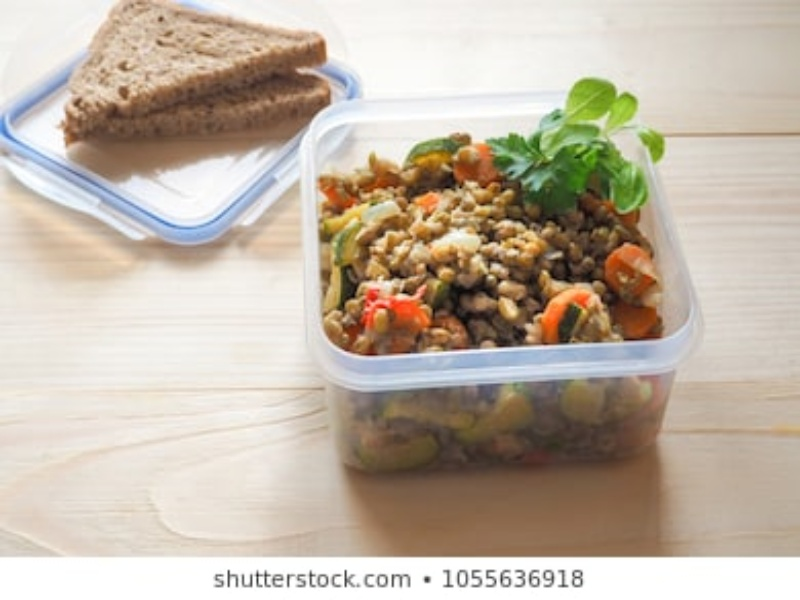plastic-container: (304, 92, 705, 482)
